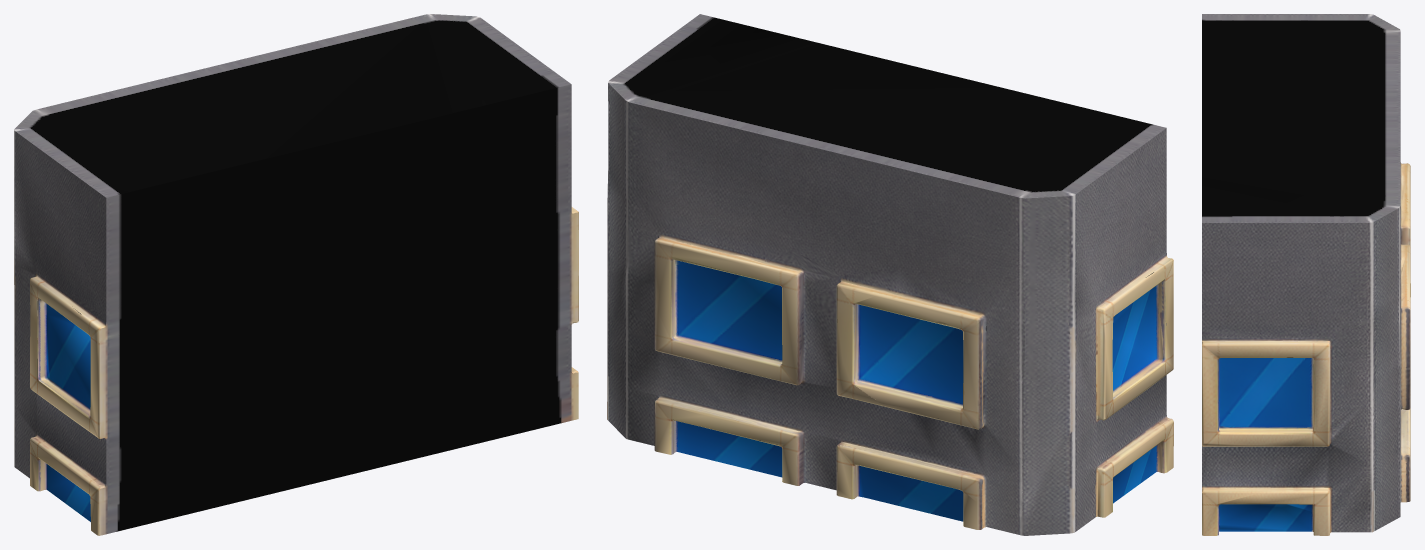
File: 6-upper-walls-back.fbx
3 views of the same model, side by side, from view 1: azimuth 30°, elevation 25°; view 2: azimuth 150°, elevation 25°; view 3: azimuth 270°, elevation 25° (orthographic). The views are drawn at different scales.
Parts seen in each view (by area): view 1: upper-walls-back; view 2: upper-walls-back; view 3: upper-walls-back.
Part boxes in pixels (x1,y1,x2,y2): upper-walls-back: (14, 14, 578, 535); upper-walls-back: (607, 14, 1173, 535); upper-walls-back: (1202, 14, 1410, 535).
Size of the model in its own units: 6073 by 4056 by 2480.
Materials: 1 (1 with a texture image).
